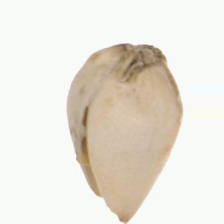L1: (90, 184, 140, 223), (115, 41, 168, 67)
L2: (67, 43, 184, 224)
